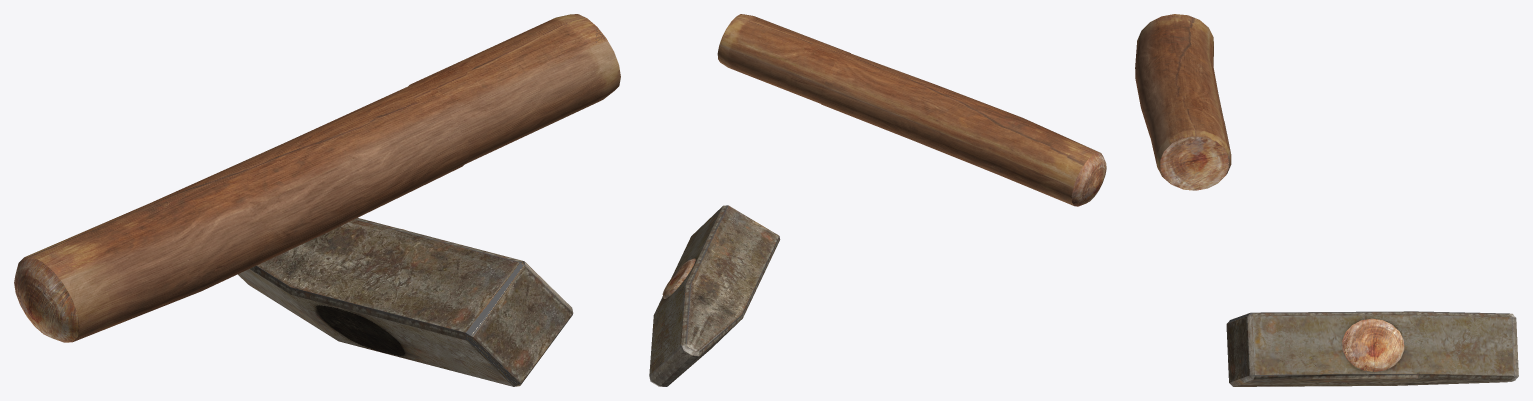
Rendered from martillo_desarmado.glb.
3 views of the same model, side by side, from view 1: azimuth 30°, elevation 25°; view 2: azimuth 150°, elevation 25°; view 3: azimuth 270°, elevation 25° (orthographic). The views are drawn at different scales.
Visible parts, largest first — view 1: Hammer_LP_01 - Default_0.004, Hammer_LP_01 - Default_0.005, Hammer_LP_01 - Default_0.002; view 2: Hammer_LP_01 - Default_0.004, Hammer_LP_01 - Default_0.005, Hammer_LP_01 - Default_0.002; view 3: Hammer_LP_01 - Default_0.005, Hammer_LP_01 - Default_0.004.
Boxes of the visible parts, <box> form: Hammer_LP_01 - Default_0.004: <box>25,14,620,341</box>; Hammer_LP_01 - Default_0.005: <box>238,218,573,386</box>; Hammer_LP_01 - Default_0.002: <box>14,257,79,342</box>; Hammer_LP_01 - Default_0.004: <box>717,14,1100,205</box>; Hammer_LP_01 - Default_0.005: <box>649,205,780,386</box>; Hammer_LP_01 - Default_0.002: <box>1071,152,1106,206</box>; Hammer_LP_01 - Default_0.005: <box>1226,311,1518,386</box>; Hammer_LP_01 - Default_0.004: <box>1135,14,1231,190</box>.
Size of the model in its own units: 2.47 by 1.59 by 1.96.
Materials: 1 (1 with a texture image).
